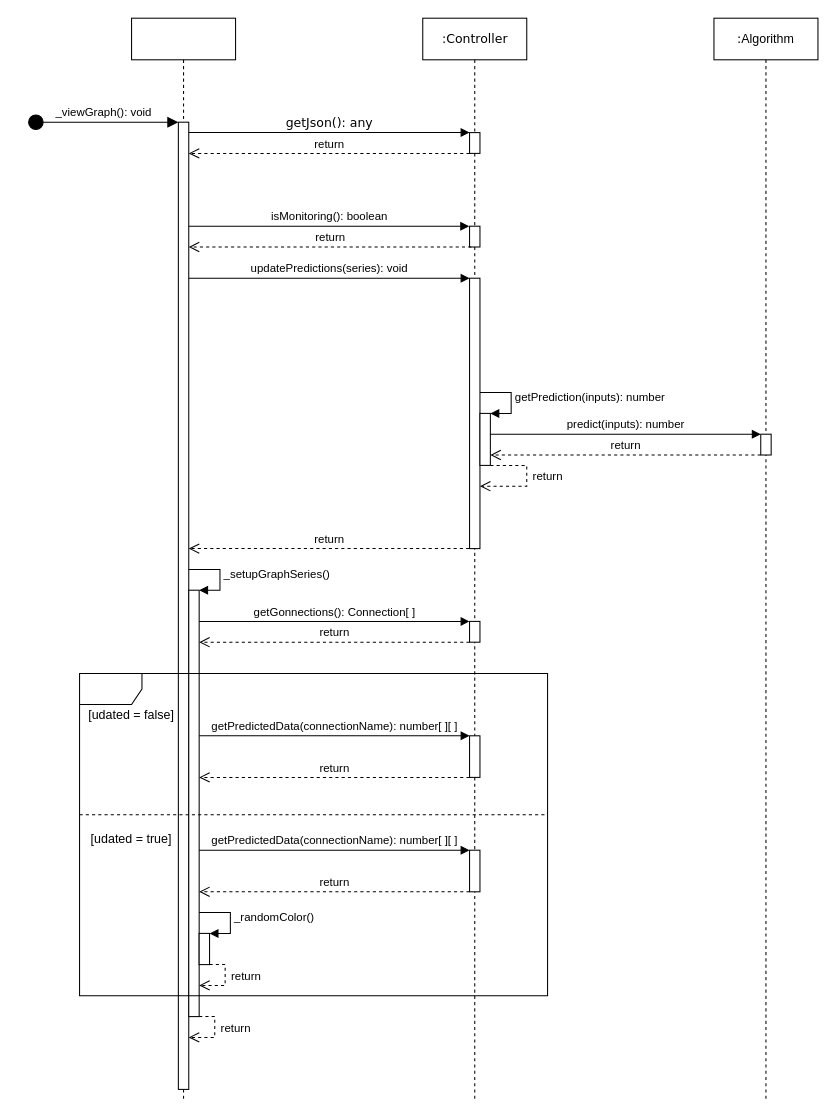
Some shapes in this 836 by 1118 pixel diagram are drawn without their labels. Here are the shapes that lost their labels. From the top down, the box of each, then its label:
(131, 17, 236, 1100): :Panel
(79, 672, 548, 996): alt
